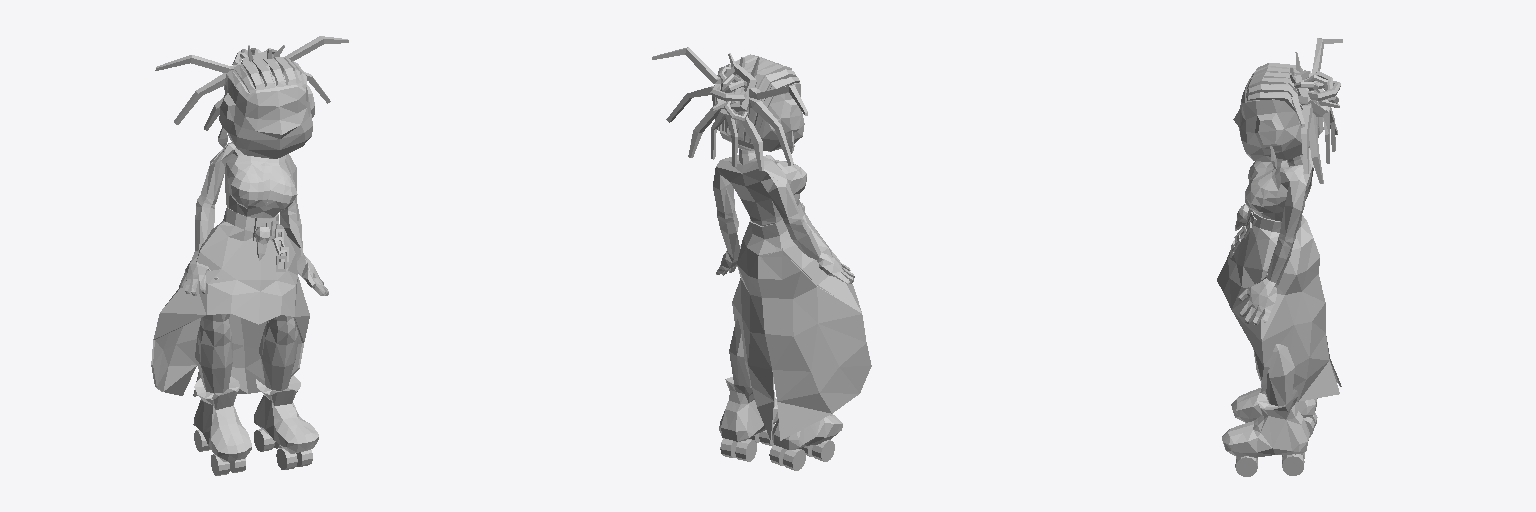
Rendered from bruja_000029.obj.
3 renders of one model, left to right at view 1: azimuth 30°, elevation 25°; view 2: azimuth 150°, elevation 25°; view 3: azimuth 270°, elevation 25°, orthographic.
Parts seen in each view (by area): view 1: Bruja_Plane.001; view 2: Bruja_Plane.001; view 3: Bruja_Plane.001.
Boxes of the visible parts, x1,y1,x2,y2 form: Bruja_Plane.001: [151, 36, 348, 475]; Bruja_Plane.001: [652, 47, 871, 470]; Bruja_Plane.001: [1217, 38, 1342, 476].
Bounding box in the file's own units: 8.78 × 16.44 × 4.63.